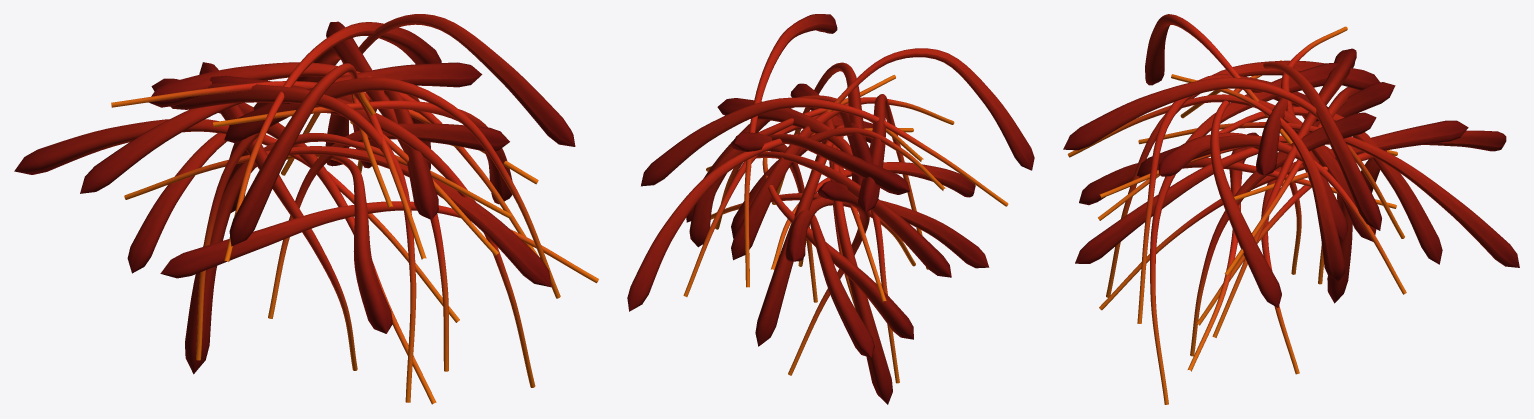
The model's file is saffron-threads.glb.
3 views of the same model, side by side, from view 1: azimuth 30°, elevation 25°; view 2: azimuth 150°, elevation 25°; view 3: azimuth 270°, elevation 25° (orthographic). The views are drawn at different scales.
Visible parts, largest first — view 1: saffron-strands; view 2: saffron-strands; view 3: saffron-strands.
Boxes of the visible parts, left/top/right/bottom form: saffron-strands: left=14, top=14, right=598, bottom=404; saffron-strands: left=627, top=14, right=1034, bottom=404; saffron-strands: left=1063, top=14, right=1519, bottom=404.
Bounding box in the file's own units: 0.0565 × 0.0478 × 0.0624.
1 material, 1 textured.
